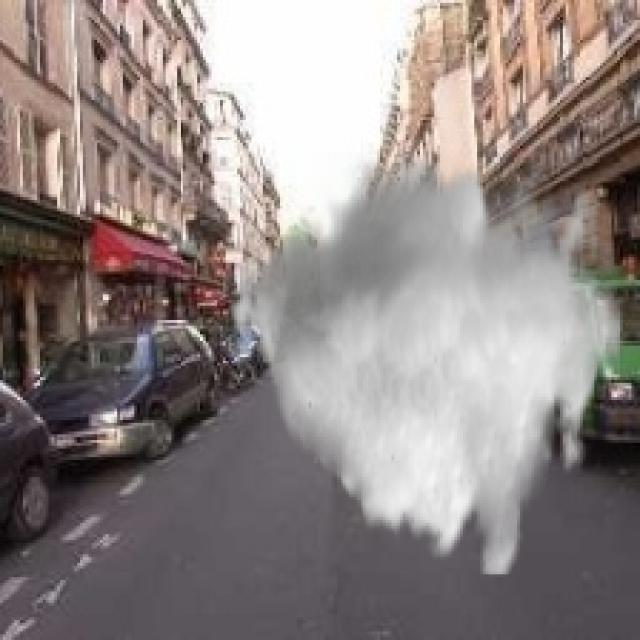smoke: (220, 152, 623, 577)
